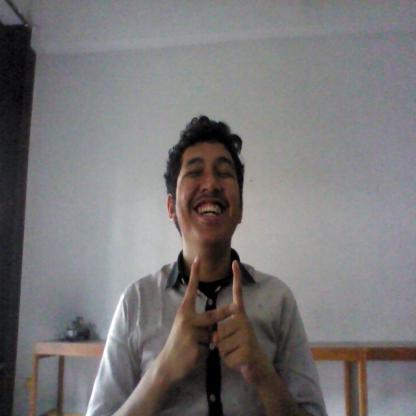H: (171, 252, 263, 380)
